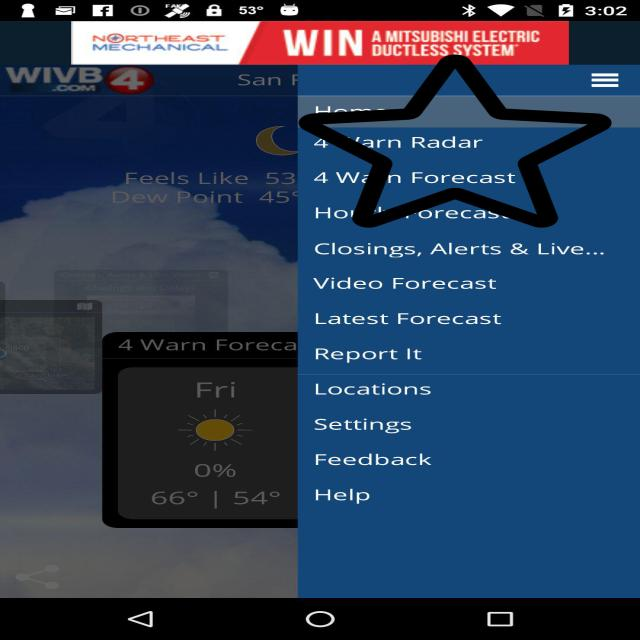forced continuity: (298, 51, 612, 231)
